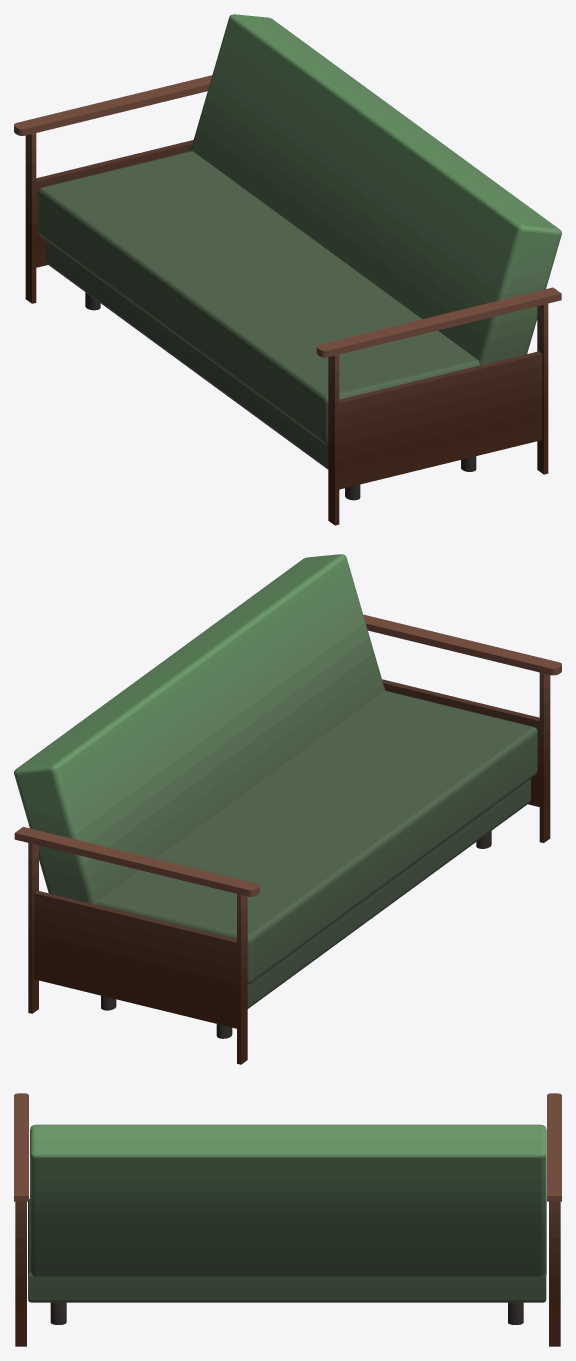
The model's file is couch1.fbx.
3 renders of one model, top to bottom at view 1: azimuth 30°, elevation 25°; view 2: azimuth 150°, elevation 25°; view 3: azimuth 270°, elevation 25°, orthographic. The views are drawn at different scales.
Parts seen in each view (by area): view 1: couch1; view 2: couch1; view 3: couch1.
Part boxes in pixels (x1,y1,x2,y2): couch1: (14,14,561,525); couch1: (14,554,561,1064); couch1: (14,1093,561,1346).
Bounding box in the file's own units: 176 × 163 × 377.
